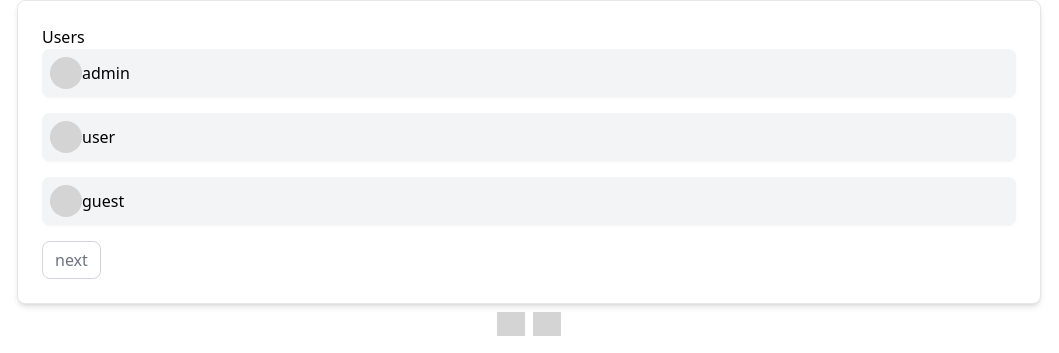
Test case: UserList › interactions › should displays next page after click on next page link
What coordinates should you click on to do the following:
click the button "next"
I would click on:
 (71, 260)
Its box is [42,241,101,279].
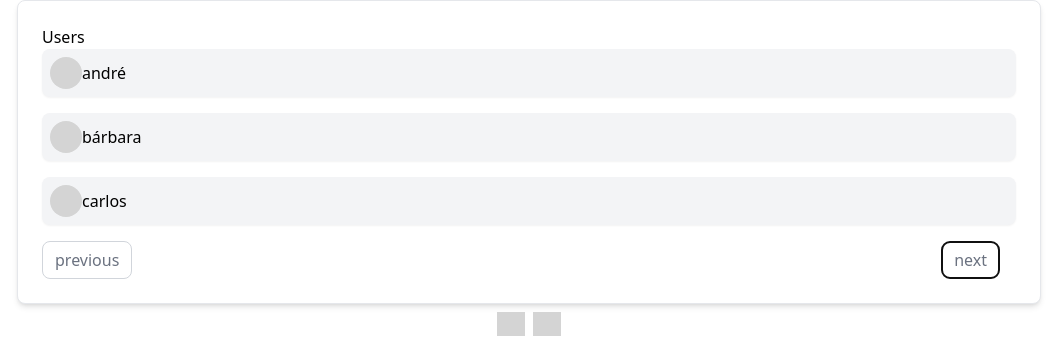
Check: the list item "andré" is shown, box [42,49,1016,97]
